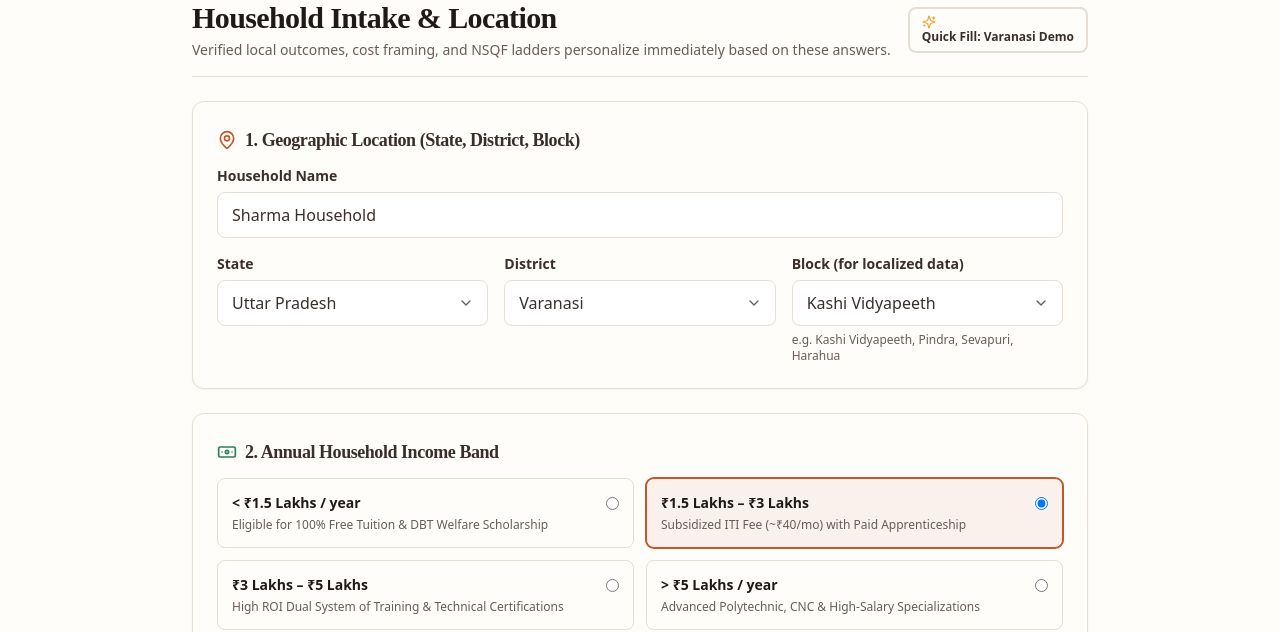
Test: HouseholdIntakeForm Component › updates dynamic preview when income band is changed to BELOW_1_5L
This screenshot has width=1280, height=632.
Click the 1st radio button: (612, 503) left=606, top=496, right=619, bottom=510
(page scrolled)
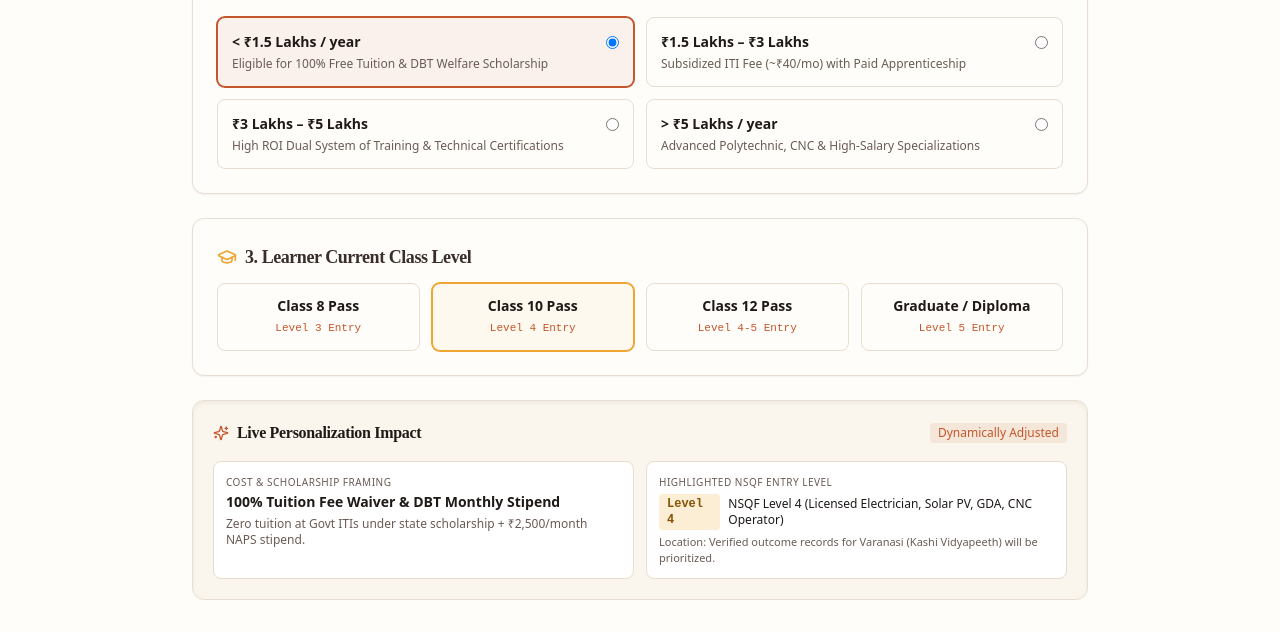
expect the text "100% Tuition Fee Waiver & DBT Monthly Stipend" is shown: met, box left=226, top=492, right=560, bottom=511
